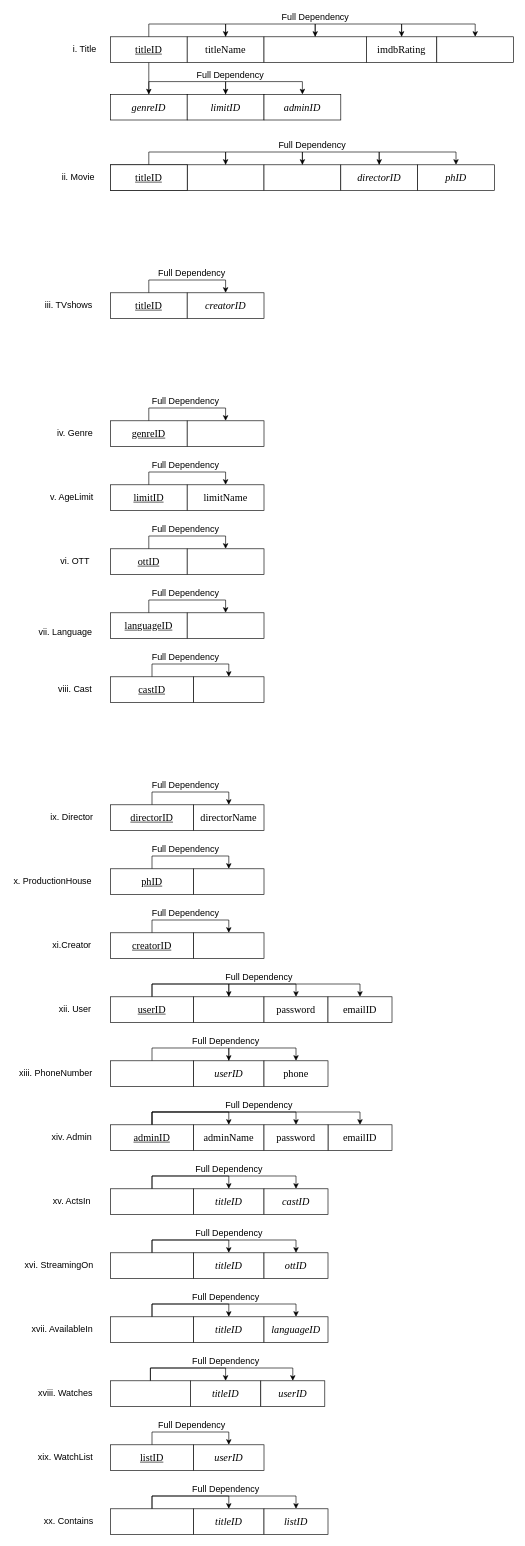
The diagram is 525 pixels wide and 1546 high, and some of its shapes have lost their labels. Each missing label, with the centre of its shape:
"actingID" belongs at point (152, 1201).
"availID" belongs at point (152, 1329).
"budget" belongs at point (225, 177).
"castName" belongs at point (228, 689).
"collection" belongs at point (302, 177).
"containsID" belongs at point (152, 1521).
"creatorName" belongs at point (228, 945).
"genreName" belongs at point (225, 433).
"languageName" belongs at point (225, 625).
"ottName" belongs at point (225, 561).
"phName" belongs at point (228, 881).
"phoneID" belongs at point (152, 1073).
"releaseYear" belongs at point (475, 49).
"rottenTomatoesRating" belongs at point (314, 49).
"streamID" belongs at point (152, 1265).
"userName" belongs at point (228, 1009).
"watchID" belongs at point (150, 1393).
